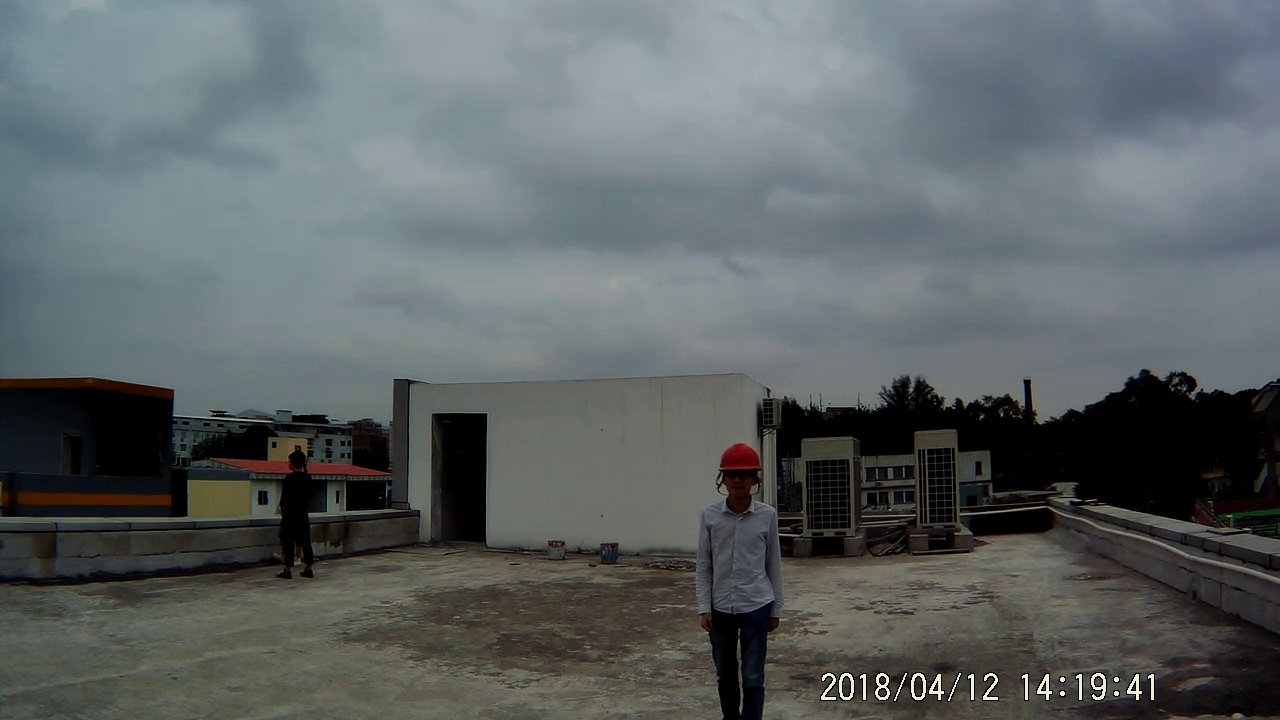red: (713, 439, 765, 506)
